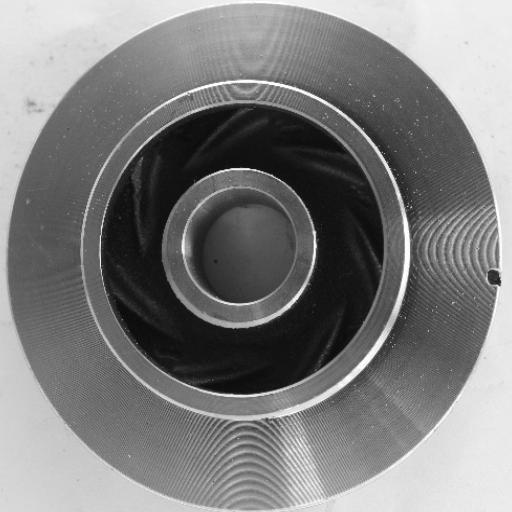pit: (480, 256, 509, 299)
unpolished_casting: (7, 1, 502, 512)
